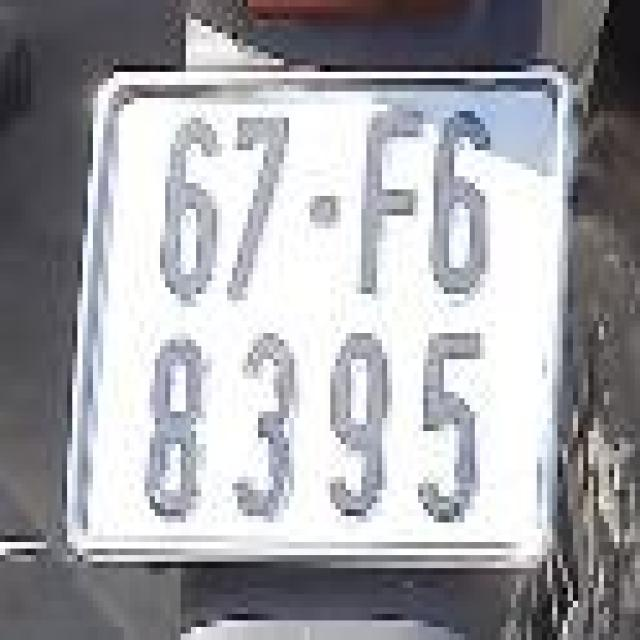3: (230, 327, 302, 529)
5: (408, 314, 495, 536)
6: (145, 104, 227, 307), (426, 98, 503, 307)
7: (217, 98, 299, 313)
8: (127, 327, 214, 529)
9: (315, 327, 392, 529)
F: (346, 95, 423, 297)
